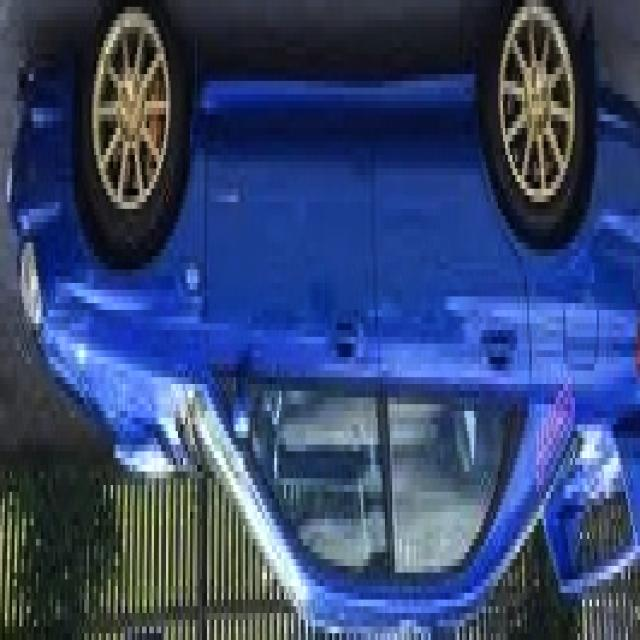blue: (8, 21, 640, 625)
